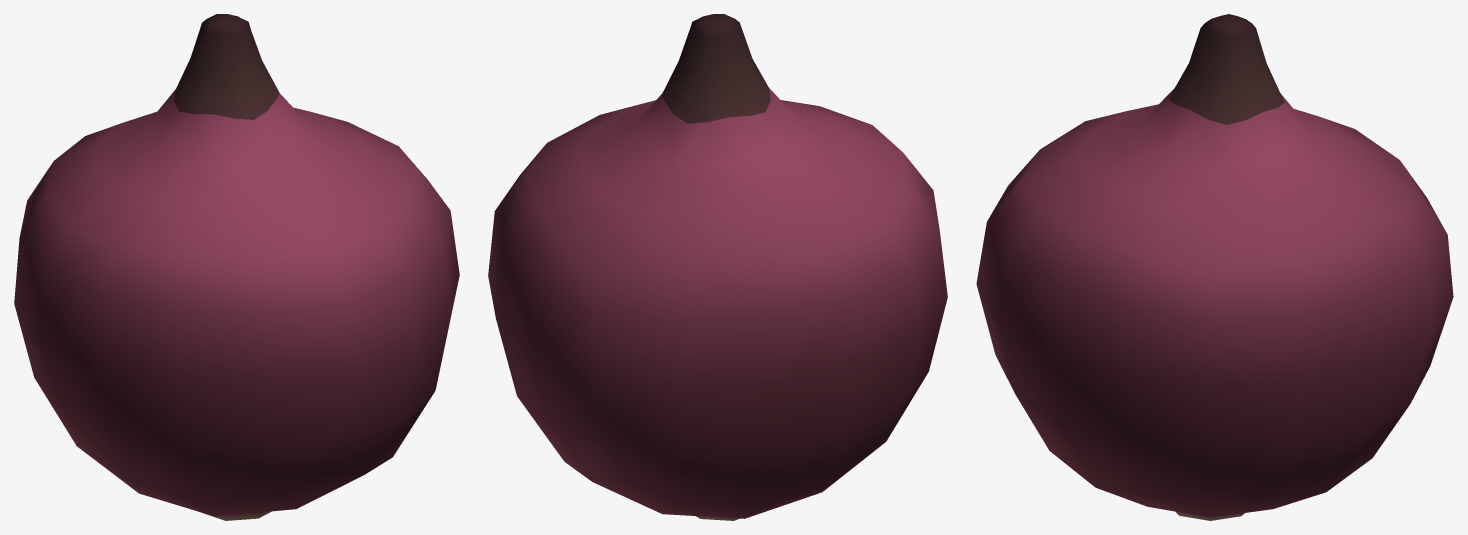
The model's file is Onion_Green.fbx.
3 views of the same model, side by side, from view 1: azimuth 30°, elevation 25°; view 2: azimuth 150°, elevation 25°; view 3: azimuth 270°, elevation 25° (orthographic). The views are drawn at different scales.
Visible parts, largest first — view 1: Onion_Green; view 2: Onion_Green; view 3: Onion_Green.
Boxes of the visible parts, box(x1,y1,x2,y2) form: Onion_Green: box(14, 14, 459, 520); Onion_Green: box(488, 14, 947, 520); Onion_Green: box(976, 14, 1453, 520).
Bounding box in the file's own units: 25.86 × 29.9 × 26.68.
